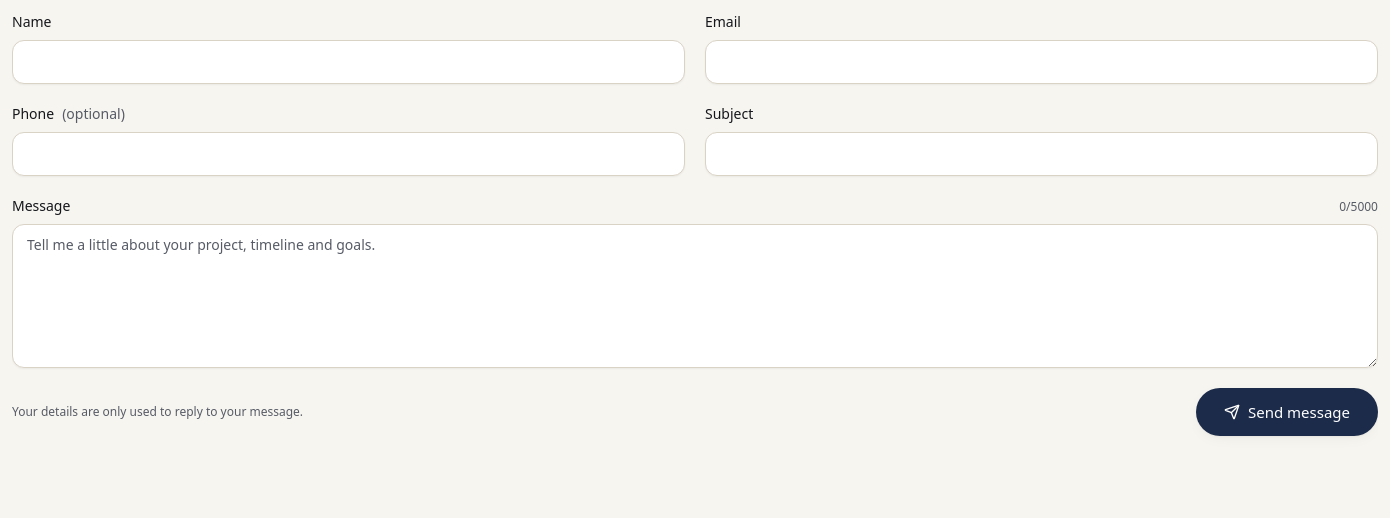
Scenario: ContactForm › shows a friendly error when the network fails
In the field labelled "Name": (348, 62) [12,40,685,84], type "Ada Lovelace"
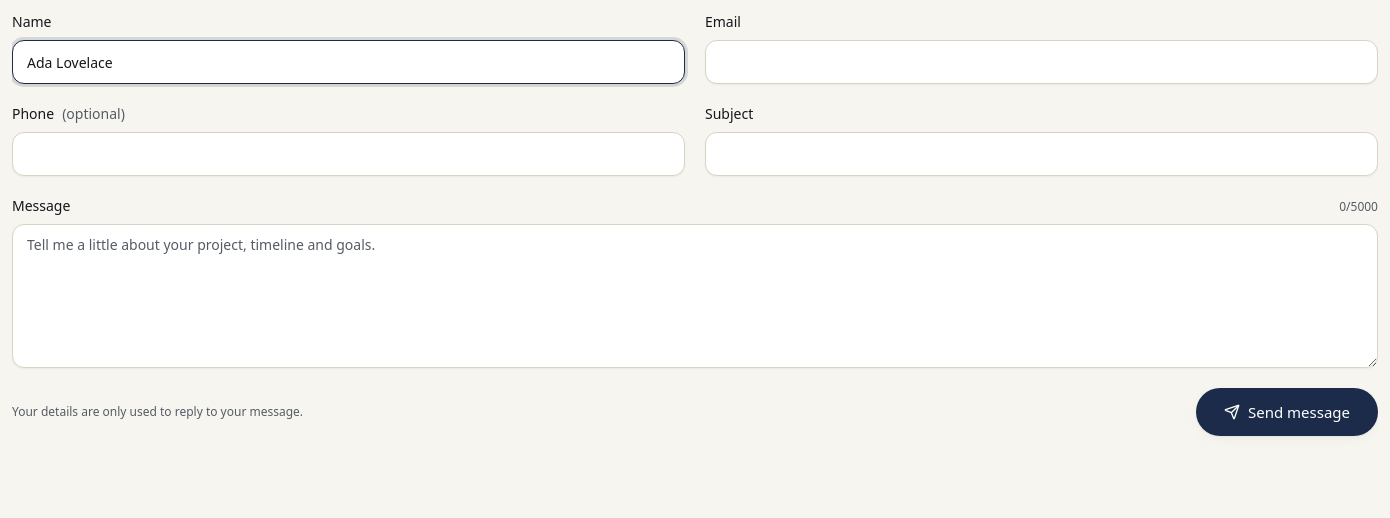
In the field labelled "Email": (1042, 62) [705,40,1378,84], type "ada@example.com"
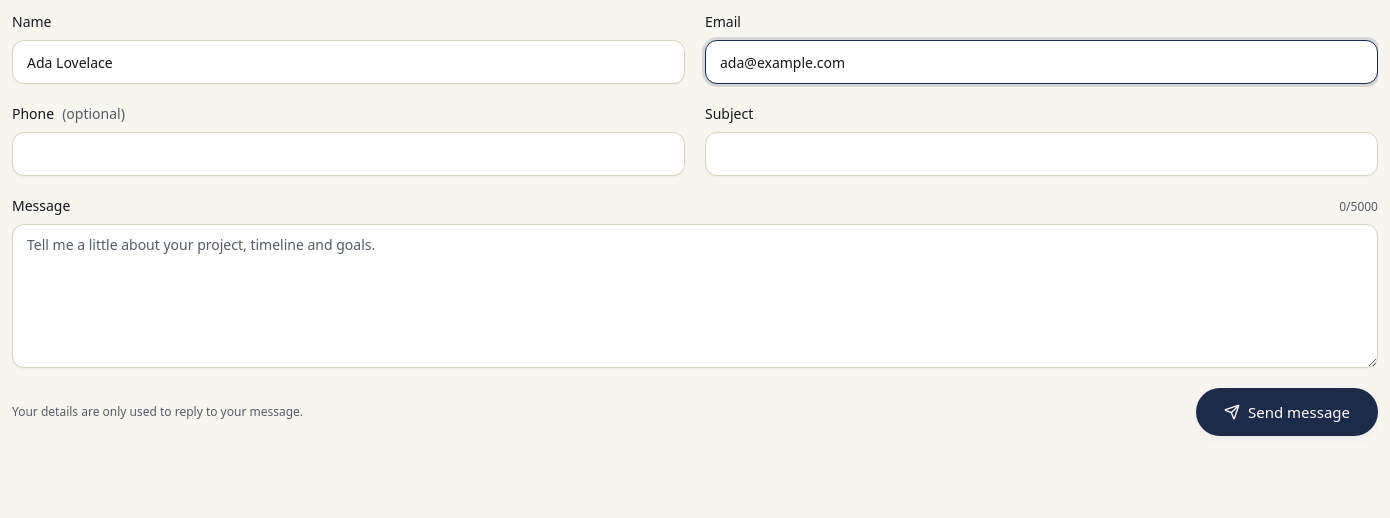
In the field labelled "Phone (optional)": (348, 154) [12,132,685,176], type "+44 20 7946 0958"
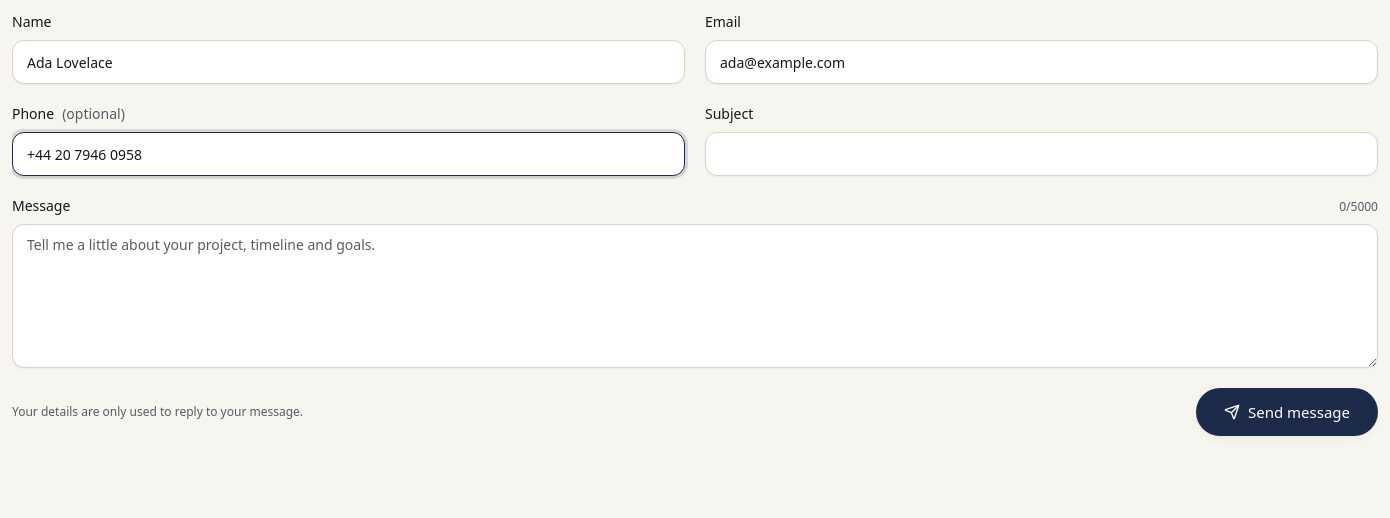
In the field labelled "Subject": (1042, 154) [705,132,1378,176], type "New website"
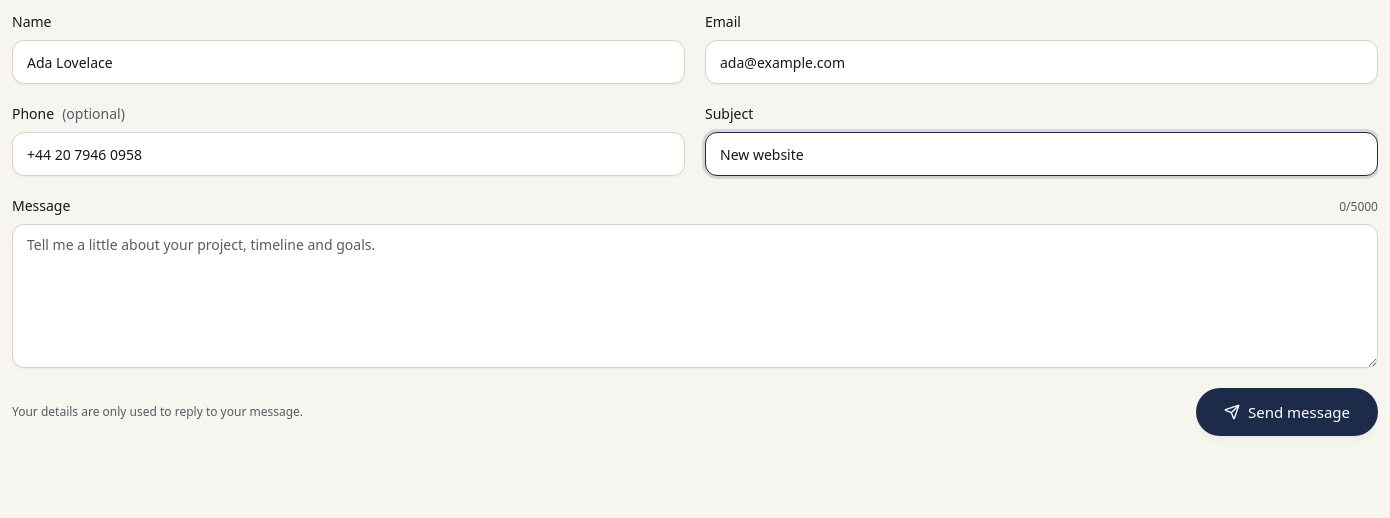
In the text box labelled "Message": (695, 296) [12,224,1378,368], type "I would love to discuss a new website for our company."
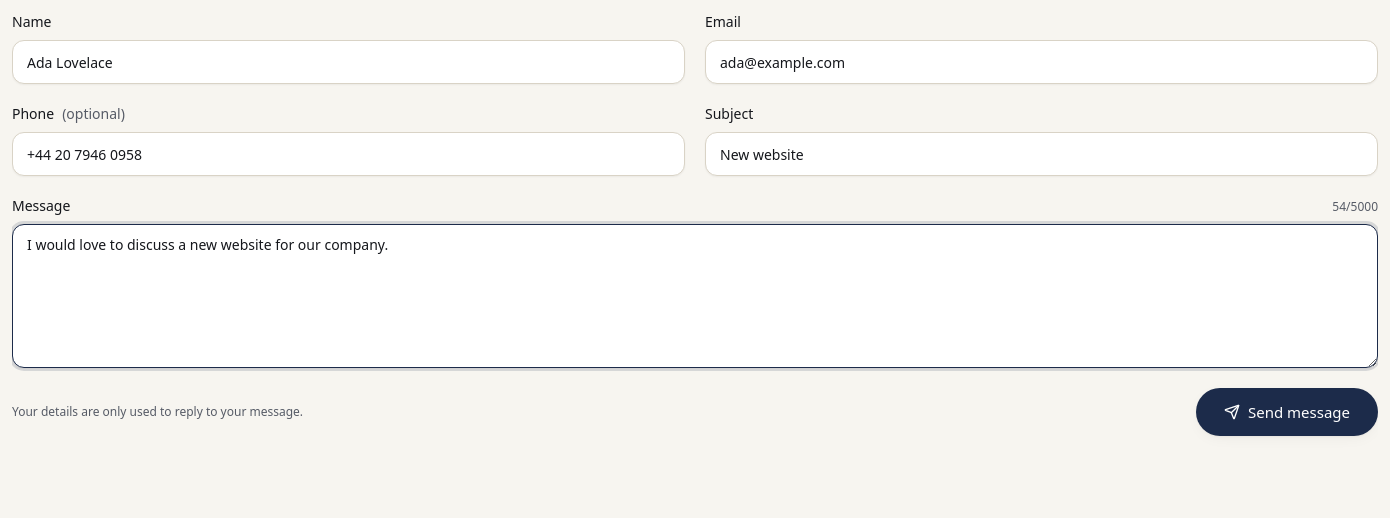
Click the button "Send message": click(1287, 412) [1196,388,1378,436]
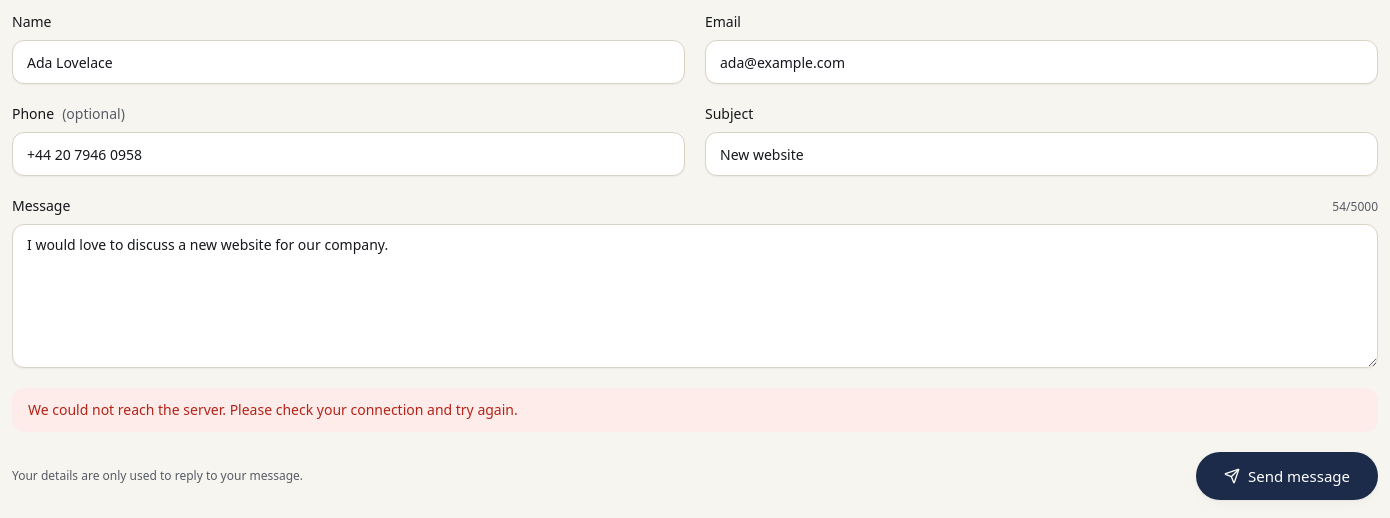
Expected: the message shows "could not reach the server", [28,400,518,419]
